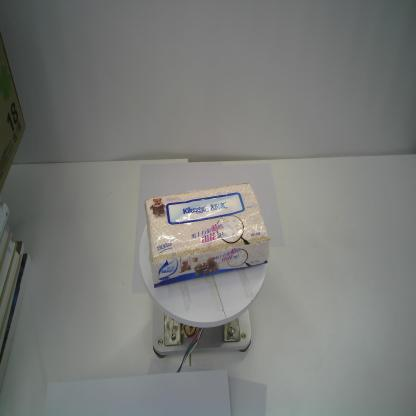Tissue: (144, 182, 271, 288)
